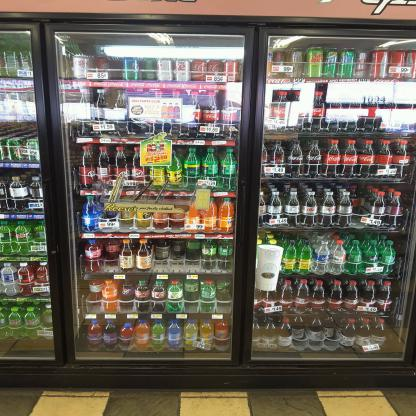Void: (152, 239, 200, 268), (83, 278, 100, 313)
